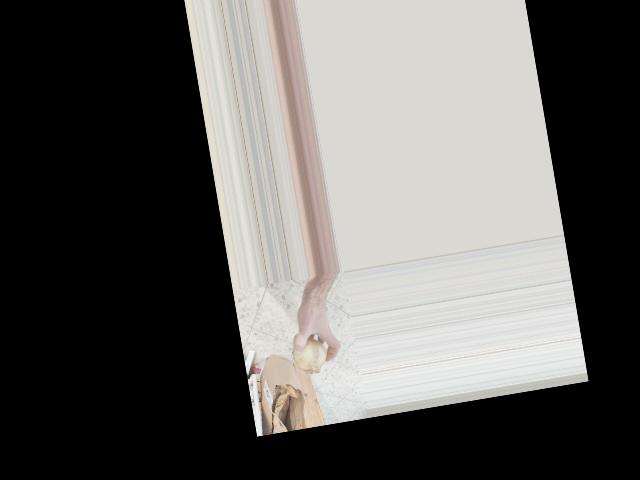onion: (285, 325, 333, 378)
